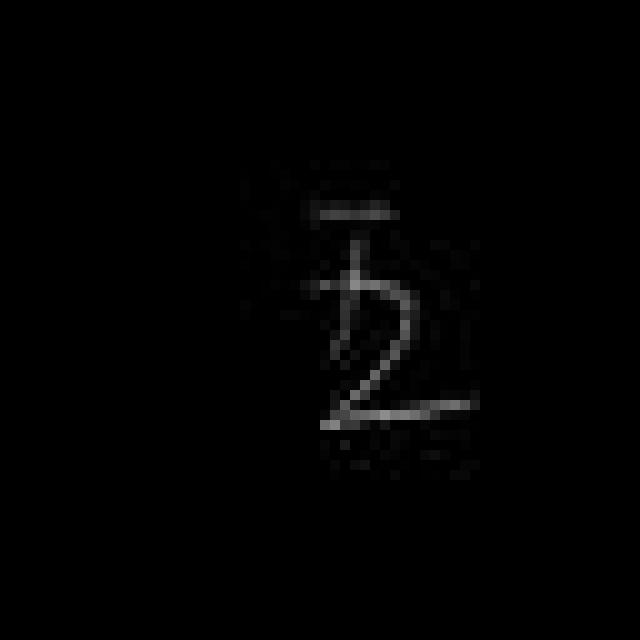5 -five-: (304, 190, 480, 445)
